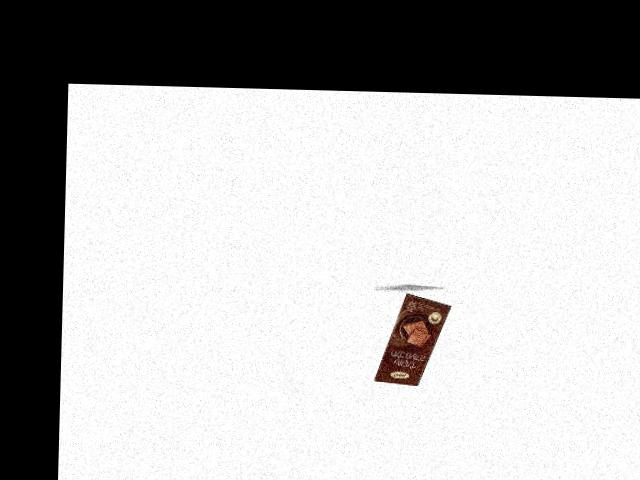chocolate: (372, 288, 454, 388)
